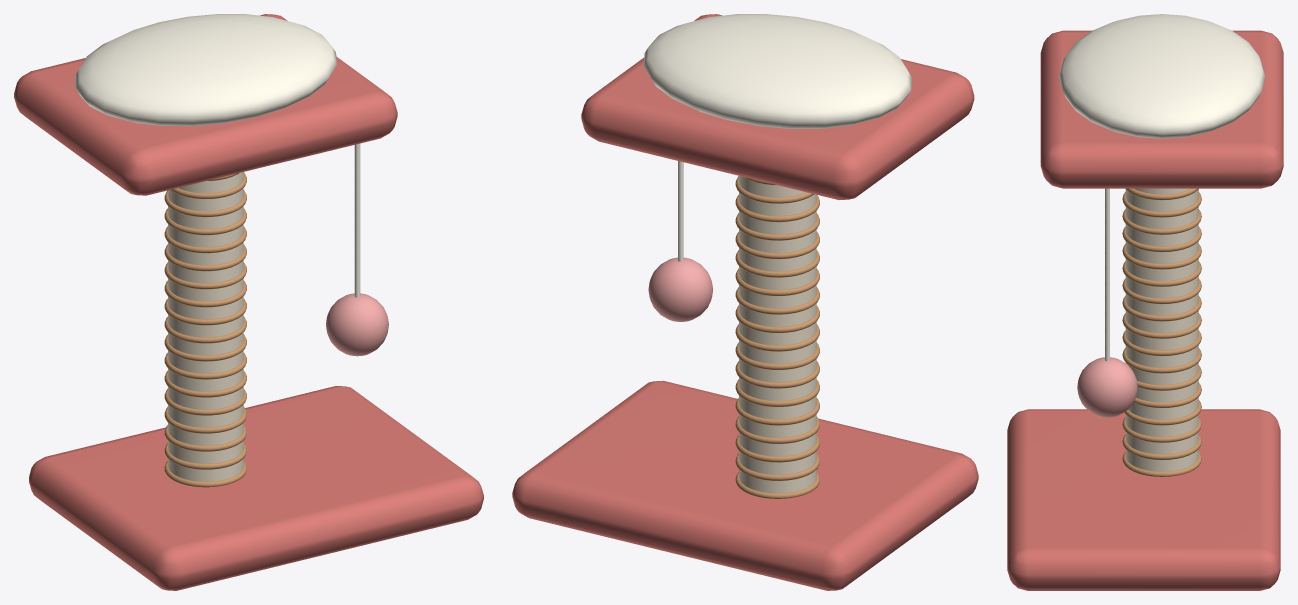
The model's file is toy-scratchPostRed.glb.
The picture shows the model from 3 angles, left to right: view 1: azimuth 30°, elevation 25°; view 2: azimuth 150°, elevation 25°; view 3: azimuth 270°, elevation 25°; orthographic projection. The views are drawn at different scales.
Visible parts, largest first — view 1: Cat tree base, Upper perch, Cushion, Sisal post, Dangling toy, Hanging toy string, Rope ring.004, Rope ring.005, Rope ring.007, Rope ring.010, Rope ring.003, Rope ring.006 (+9 smaller); view 2: Cat tree base, Upper perch, Cushion, Sisal post, Dangling toy, Rope ring.012, Rope ring.014, Rope ring.010, Rope ring.006, Rope ring.008, Rope ring.002, Rope ring.004 (+10 smaller); view 3: Cat tree base, Cushion, Upper perch, Sisal post, Dangling toy, Hanging toy string, Rope ring.006, Rope ring.009, Rope ring.012, Rope ring.015, Rope ring.002, Rope ring.011 (+11 smaller).
Part boxes in pixels (x1,y1,x2,y2): Cat tree base: [29, 386, 483, 590]; Upper perch: [14, 14, 397, 195]; Cushion: [74, 14, 336, 126]; Sisal post: [168, 172, 243, 481]; Dangling toy: [326, 293, 388, 356]; Hanging toy string: [354, 143, 360, 297]; Rope ring.004: [164, 389, 246, 415]; Rope ring.005: [164, 371, 246, 397]; Rope ring.007: [164, 334, 246, 361]; Rope ring.010: [164, 280, 246, 307]; Rope ring.003: [164, 407, 246, 433]; Rope ring.006: [164, 353, 246, 379]; Cat tree base: [512, 380, 978, 590]; Upper perch: [581, 14, 974, 199]; Cushion: [643, 14, 911, 128]; Sisal post: [739, 176, 816, 493]; Dangling toy: [648, 257, 712, 321]; Rope ring.012: [735, 250, 819, 277]; Rope ring.014: [735, 213, 819, 240]; Rope ring.010: [735, 287, 819, 314]; Rope ring.006: [735, 361, 819, 388]; Rope ring.008: [735, 324, 819, 351]; Rope ring.002: [735, 435, 819, 462]; Rope ring.004: [735, 398, 819, 425]; Cat tree base: [1007, 409, 1280, 590]; Cushion: [1059, 14, 1265, 138]; Upper perch: [1040, 30, 1283, 188]; Sisal post: [1125, 188, 1198, 471]; Dangling toy: [1077, 357, 1137, 417]; Hanging toy string: [1105, 188, 1109, 361]; Rope ring.006: [1122, 348, 1201, 373]; Rope ring.009: [1122, 296, 1201, 321]; Rope ring.012: [1122, 244, 1201, 269]; Rope ring.015: [1122, 192, 1201, 217]; Rope ring.002: [1122, 417, 1201, 442]; Rope ring.011: [1122, 261, 1201, 286].
Size of the model in its own units: 1.25 by 1.64 by 0.91.
